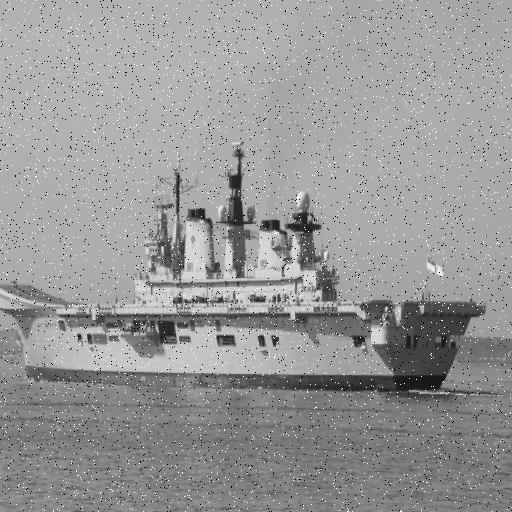Portanaves: (1, 134, 490, 395)
